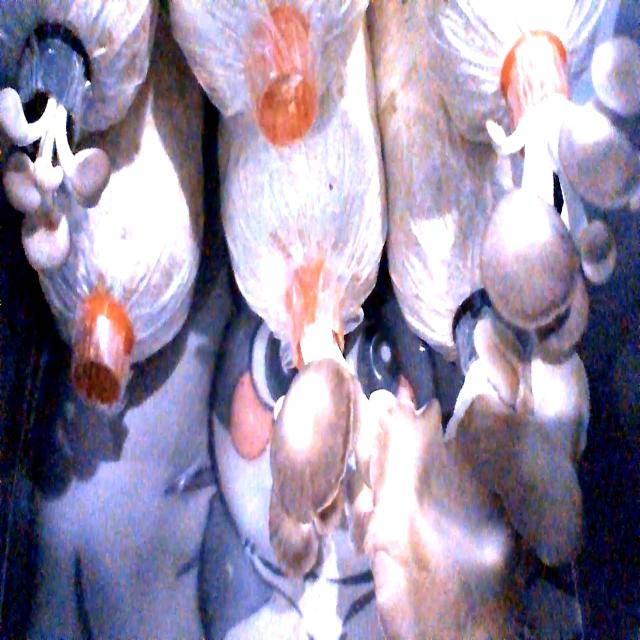big: (346, 353, 589, 639), (457, 18, 640, 344), (252, 319, 374, 580)
nfound: (252, 52, 334, 151), (65, 346, 145, 405)
small: (0, 66, 113, 278)
